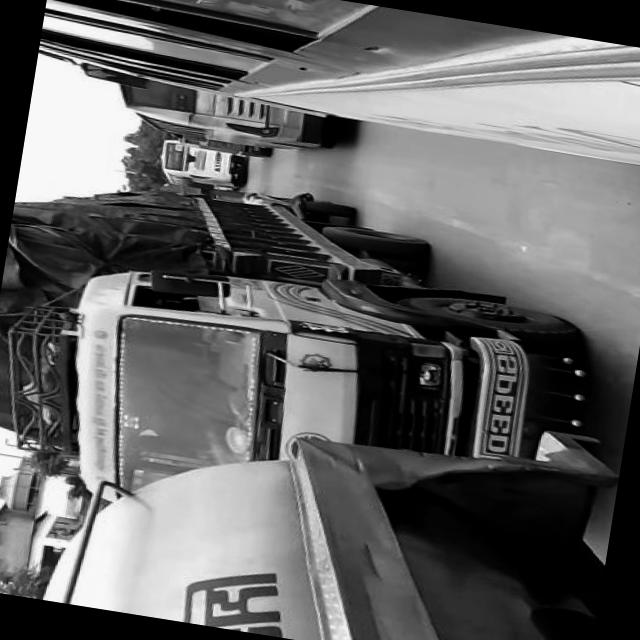bus: (37, 0, 640, 170), (108, 74, 350, 162), (151, 134, 245, 193)
truck: (0, 165, 597, 570)
